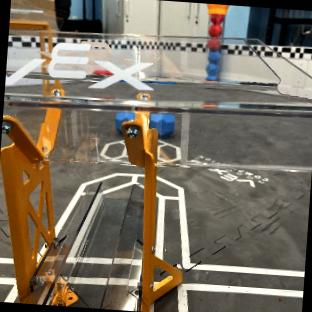V5_BLUE: (148, 112, 174, 136)
